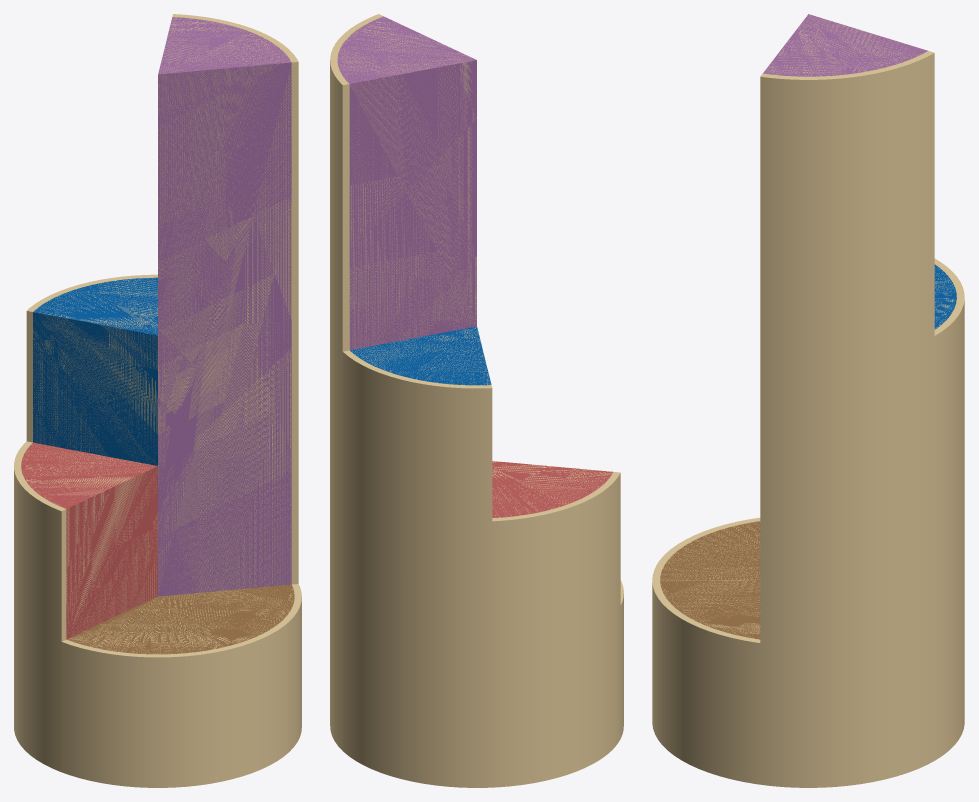
3 views of the same model, side by side, from view 1: azimuth 30°, elevation 25°; view 2: azimuth 150°, elevation 25°; view 3: azimuth 270°, elevation 25° (orthographic). The views are drawn at different scales.
Parts seen in each view (by area): view 1: group_0 (×5); view 2: group_0 (×4); view 3: group_0 (×4).
Boxes of the visible parts, bbox=[...] form: group_0 (×5): bbox=[14, 14, 301, 787]; group_0 (×4): bbox=[330, 14, 623, 787]; group_0 (×4): bbox=[652, 14, 964, 787].
Bounding box in the file's own units: 7.87 × 7.87 × 19.69.
